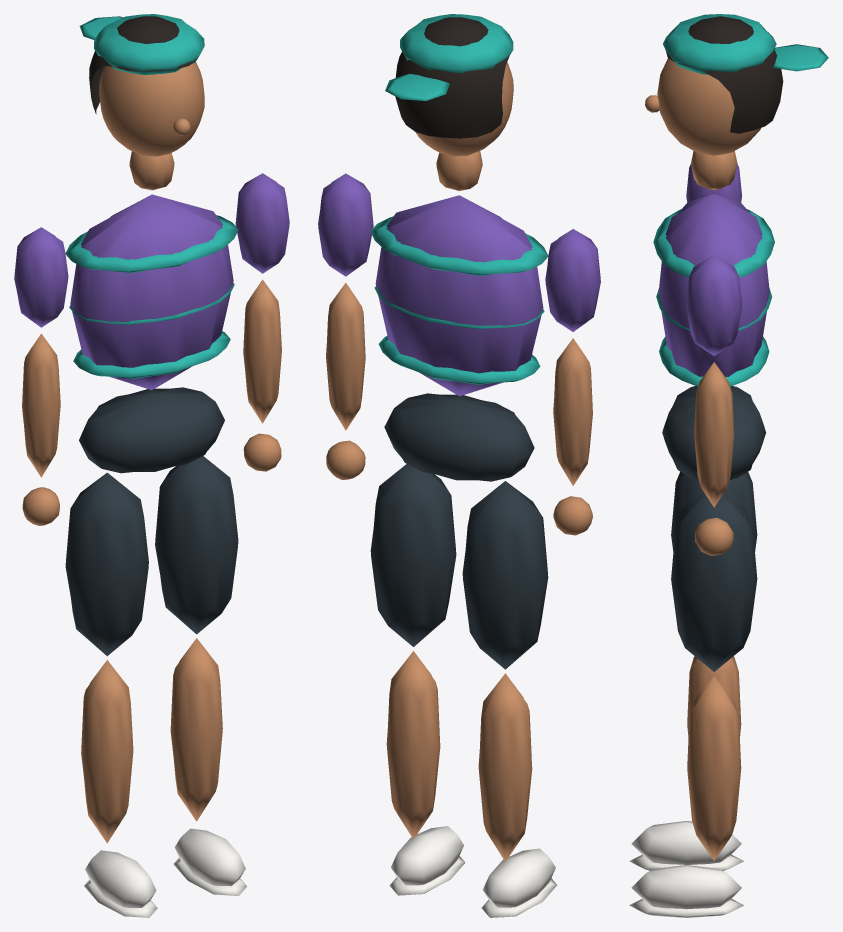
Rendered from getkong-hhped6.glb.
3 views of the same model, side by side, from view 1: azimuth 30°, elevation 25°; view 2: azimuth 150°, elevation 25°; view 3: azimuth 270°, elevation 25° (orthographic). The views are drawn at different scales.
Parts seen in each view (by area): view 1: rumpf, beinL, beinR, kopf, armL, armR; view 2: rumpf, beinL, beinR, kopf, armL, armR; view 3: beinR, rumpf, kopf, armR, beinL, armL.
Boxes of the visible parts, x1,y1,x2,y2 form: rumpf: (65,151,238,473); beinL: (65,472,157,917); beinR: (155,456,246,895); kopf: (79,14,204,156); armL: (14,227,68,525); armR: (235,173,289,471); rumpf: (370,151,548,481); beinL: (462,481,556,917); beinR: (370,464,465,895); kopf: (385,14,513,156); armL: (545,229,600,535); armR: (318,173,373,479); beinR: (629,493,757,917); rumpf: (653,151,774,479); kopf: (645,14,828,155); armR: (686,254,741,555); beinL: (629,471,757,870); armL: (686,164,741,202).
Size of the model in its own units: 0.5718 by 1.74 by 0.3637.
